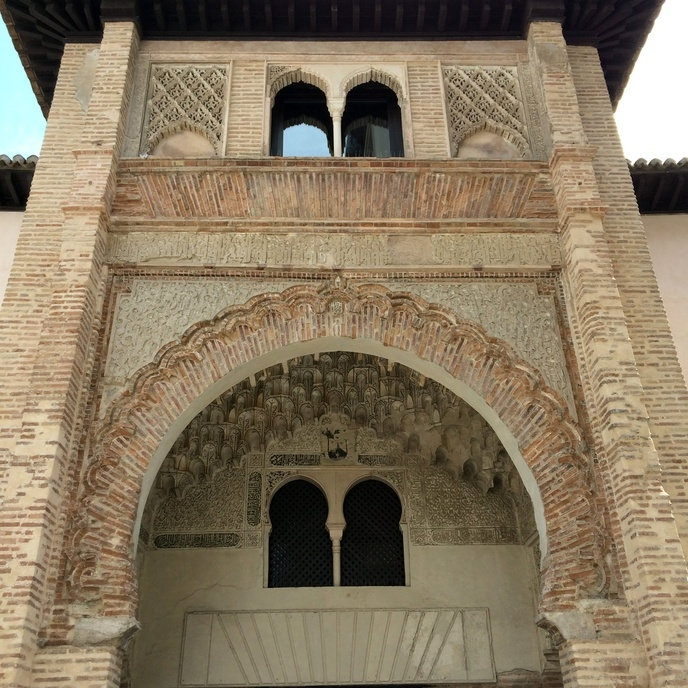arco-herradura: (94, 321, 588, 688), (263, 470, 336, 549), (335, 472, 407, 549)
dintel-adovelado: (133, 163, 540, 229), (213, 609, 464, 684)
